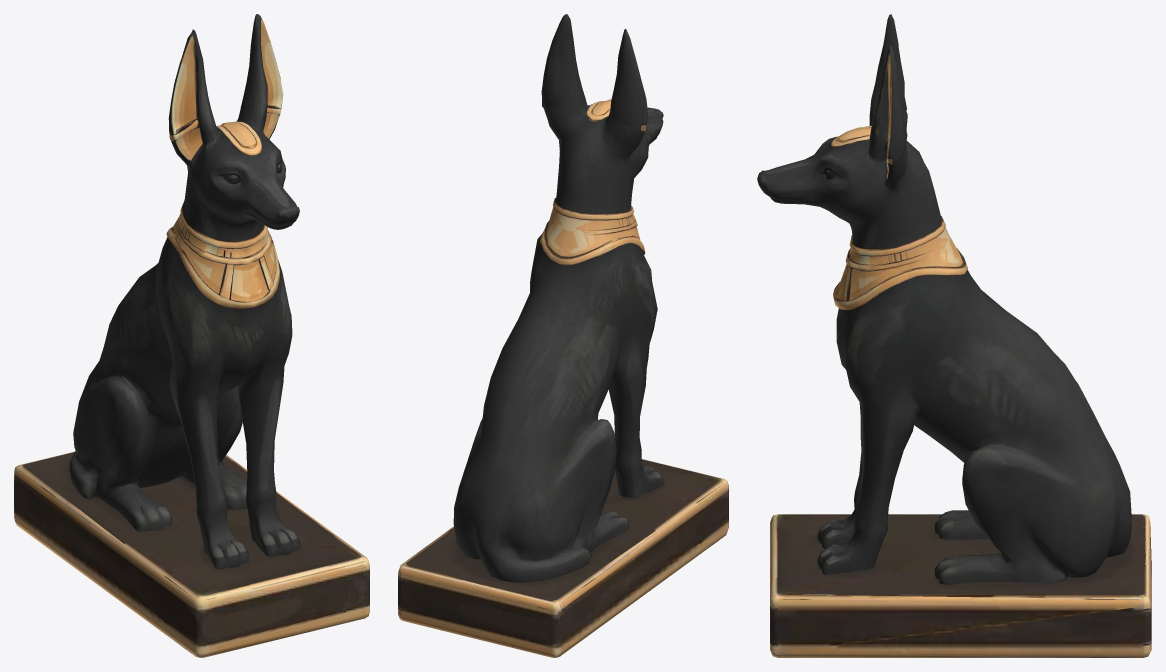
Rendered from jackal.glb.
3 renders of one model, left to right at view 1: azimuth 30°, elevation 25°; view 2: azimuth 150°, elevation 25°; view 3: azimuth 270°, elevation 25°, orthographic. The views are drawn at different scales.
Bounding box in the file's own units: 0.3185 × 1 × 0.6087.
1 material, 1 textured.
